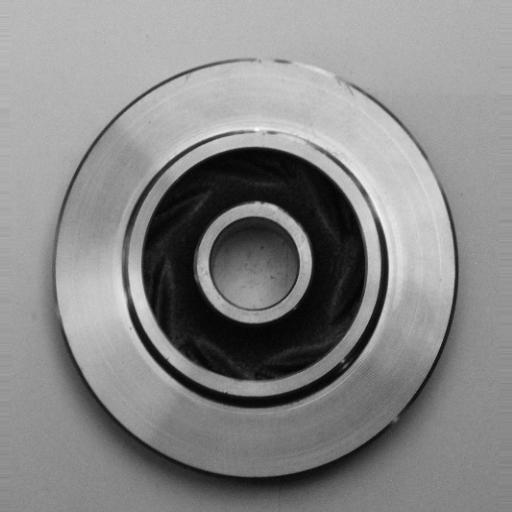scratch: (257, 41, 361, 104), (238, 121, 325, 160)
unpolished_casting: (49, 51, 458, 488)
